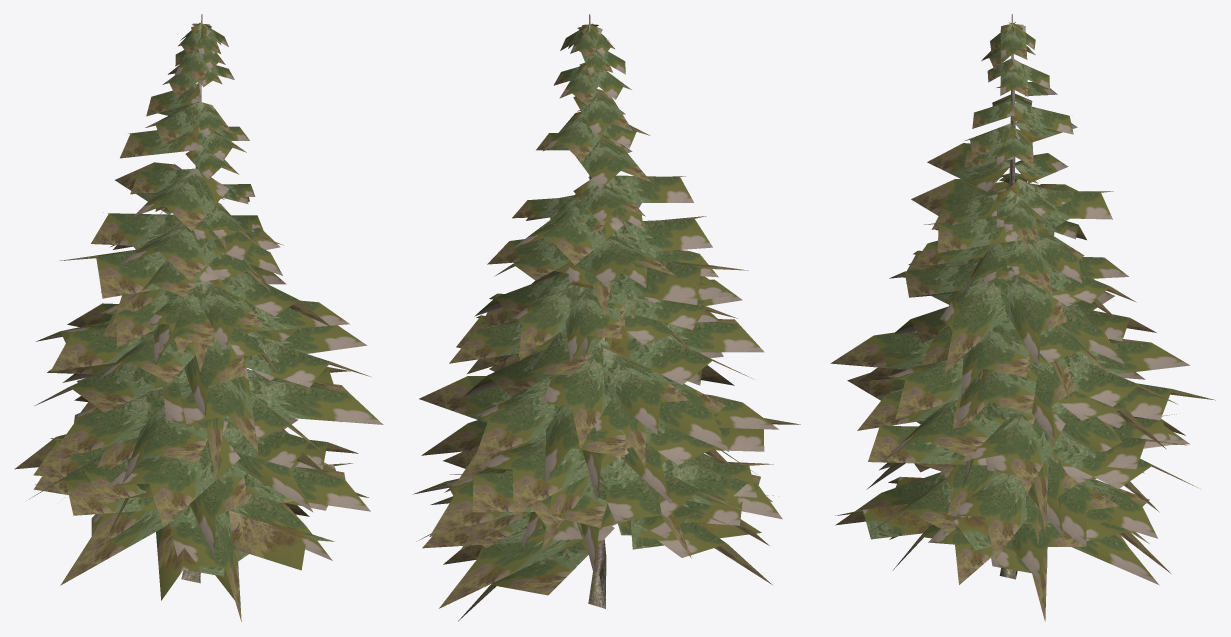
The model's file is Spruce5_LOD3.fbx.
3 renders of one model, left to right at view 1: azimuth 30°, elevation 25°; view 2: azimuth 150°, elevation 25°; view 3: azimuth 270°, elevation 25°, orthographic. The views are drawn at different scales.
Visible parts, largest first — view 1: spruce 2_1; view 2: spruce 2_1, spruce 1_0; view 3: spruce 2_1.
Boxes of the visible parts, x1,y1,x2,y2 form: spruce 2_1: (14, 23, 383, 621); spruce 2_1: (413, 23, 800, 621); spruce 1_0: (588, 14, 606, 608); spruce 2_1: (830, 22, 1215, 621).
Size of the model in its own units: 659 by 1049 by 650.
Materials: 2 (2 with a texture image).
